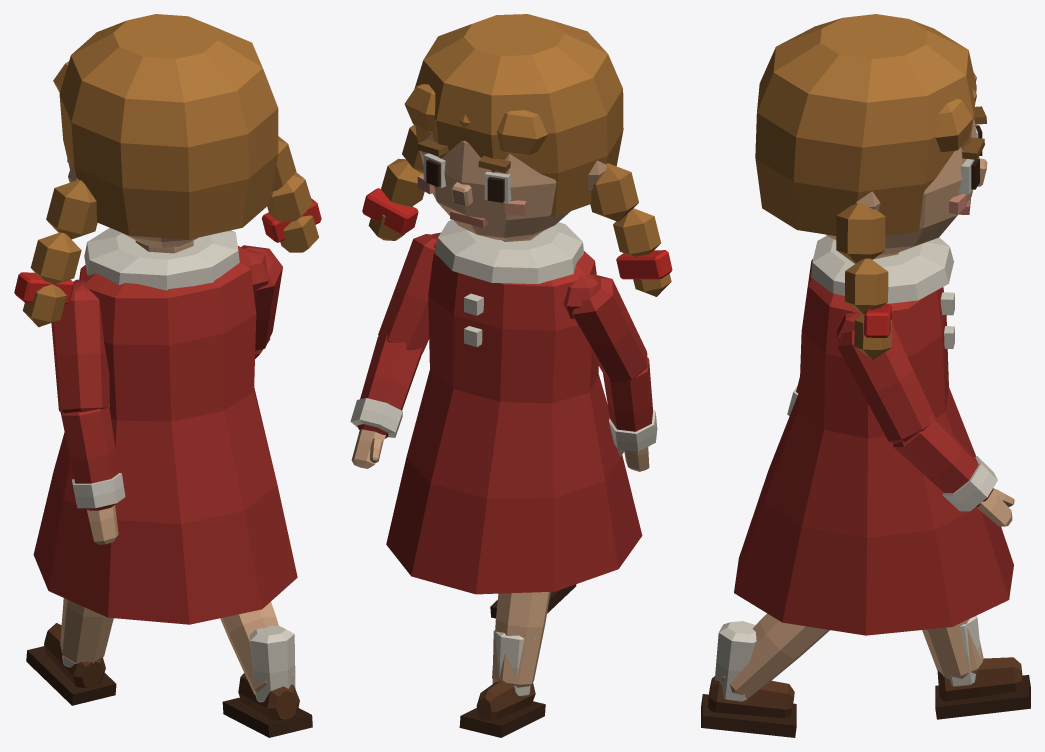
The model's file is chr_leni_w1.glb.
The picture shows the model from 3 angles, left to right: view 1: azimuth 30°, elevation 25°; view 2: azimuth 150°, elevation 25°; view 3: azimuth 270°, elevation 25°; orthographic projection. The views are drawn at different scales.
Parts seen in each view (by area): view 1: chr_leni_w1; view 2: chr_leni_w1; view 3: chr_leni_w1.
Boxes of the visible parts, x1,y1,x2,y2 form: chr_leni_w1: [14, 14, 321, 737]; chr_leni_w1: [350, 14, 672, 737]; chr_leni_w1: [701, 14, 1030, 737].
Size of the model in its own units: 0.4993 by 1.05 by 0.4529.
